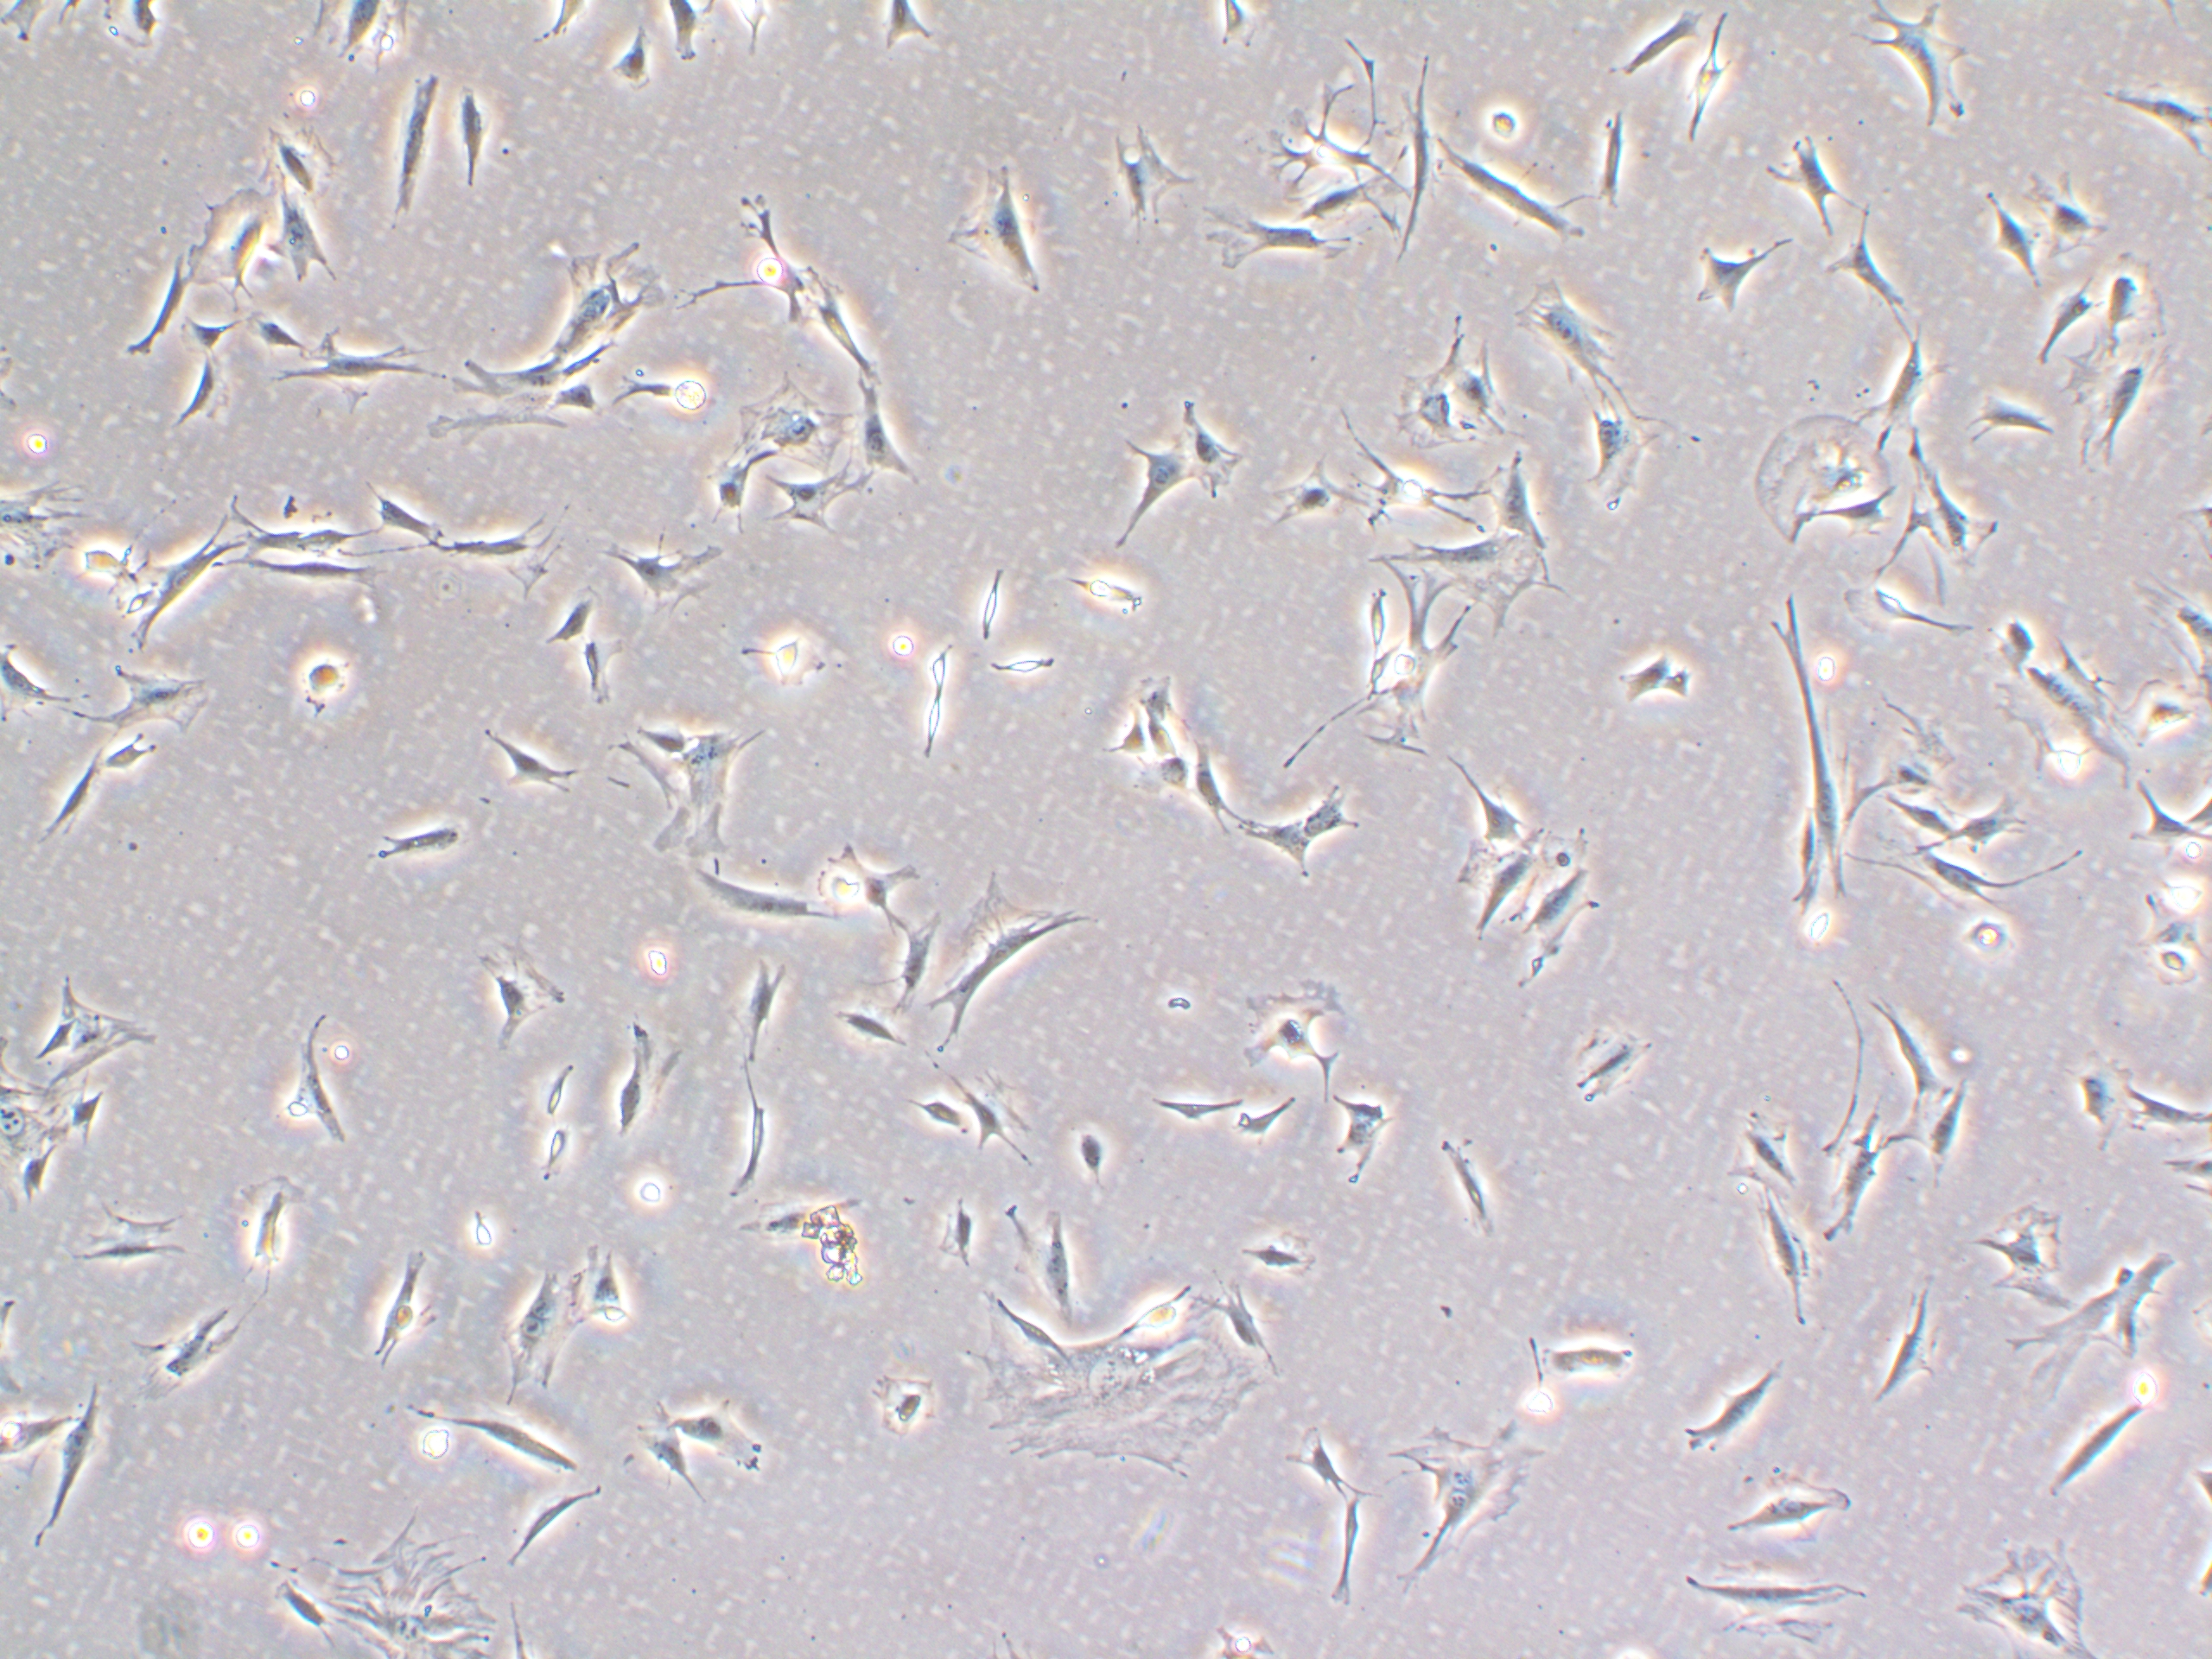Etc: (1679, 12, 1754, 148), (728, 1073, 772, 1213), (960, 547, 1014, 655), (1230, 1093, 1306, 1157), (970, 647, 1075, 692), (1050, 563, 1144, 612), (526, 1054, 587, 1129), (914, 699, 974, 775), (524, 1127, 578, 1194), (916, 620, 956, 706), (1350, 582, 1393, 647), (1345, 638, 1393, 694)
polygonal: (928, 863, 1103, 1065), (1771, 591, 1860, 913), (17, 1361, 120, 1591), (1843, 0, 1994, 145), (986, 1194, 1129, 1347), (1667, 1547, 1885, 1638), (1886, 436, 2010, 589), (16, 972, 185, 1082), (118, 1298, 263, 1424), (397, 1391, 589, 1483), (941, 153, 1052, 301), (594, 518, 733, 627), (273, 321, 432, 415), (1426, 1121, 1529, 1265), (456, 927, 580, 1046), (1548, 1006, 1663, 1133), (1683, 216, 1810, 329), (711, 945, 806, 1094), (125, 507, 228, 647), (1191, 1276, 1310, 1396), (2031, 1396, 2149, 1516), (2094, 61, 2212, 174), (1738, 1185, 1824, 1342), (752, 455, 881, 558), (1670, 1354, 1796, 1457), (601, 1009, 693, 1148), (1714, 1084, 1831, 1194), (1512, 868, 1604, 1006), (1918, 779, 2060, 868), (1190, 207, 1374, 275), (625, 1387, 714, 1525), (1869, 986, 1975, 1101), (280, 1006, 357, 1164), (683, 863, 845, 938), (1103, 115, 1190, 249), (1862, 1272, 1944, 1413), (817, 988, 944, 1079), (1757, 125, 1851, 247), (16, 741, 117, 854), (1818, 1105, 1886, 1272), (381, 54, 444, 230), (1824, 200, 1921, 312), (265, 176, 347, 308), (667, 1382, 772, 1485), (343, 812, 486, 885), (54, 1197, 193, 1270), (798, 268, 888, 380), (472, 721, 594, 803), (1864, 326, 1947, 444), (1219, 807, 1332, 894), (1458, 828, 1540, 948), (430, 509, 554, 587), (960, 1068, 1054, 1171), (838, 824, 923, 936), (881, 894, 963, 1009), (444, 71, 510, 213), (230, 554, 401, 608), (2024, 270, 2106, 380), (228, 495, 380, 554), (1165, 390, 1247, 497), (1252, 455, 1371, 528), (1320, 1493, 1386, 1624), (1109, 444, 1188, 549), (1918, 845, 2041, 911), (139, 352, 237, 436), (1979, 179, 2047, 296), (1325, 1091, 1397, 1197), (117, 258, 190, 361), (2114, 772, 2212, 849), (1921, 1072, 1979, 1201), (347, 474, 453, 544), (848, 390, 927, 484), (1958, 382, 2067, 446), (2130, 1068, 2212, 1152), (1284, 1420, 1371, 1499), (599, 23, 672, 115), (1878, 782, 1963, 856), (695, 448, 768, 533), (1231, 1218, 1332, 1277), (885, 1082, 975, 1147), (1141, 1084, 1242, 1140), (1054, 1112, 1113, 1201), (1665, 657, 1728, 737), (165, 308, 249, 359), (1087, 697, 1151, 760), (240, 300, 298, 354), (547, 584, 596, 647)
small-round: (1444, 73, 1548, 173), (279, 638, 378, 739), (733, 620, 831, 699), (608, 1150, 685, 1232), (1952, 908, 2027, 979), (54, 537, 136, 596), (2128, 943, 2203, 1002), (451, 1201, 509, 1267), (634, 925, 683, 1002), (110, 586, 167, 633)
spread: (995, 1295, 1280, 1486), (1395, 1412, 1557, 1601), (327, 1528, 519, 1659), (1369, 525, 1585, 636), (615, 713, 742, 882), (1743, 415, 1897, 552), (535, 239, 686, 371), (2066, 340, 2191, 493), (1946, 1530, 2092, 1659), (1724, 1460, 1898, 1553), (726, 375, 873, 481), (176, 174, 289, 300), (73, 664, 233, 746), (1576, 389, 1681, 511), (2076, 234, 2181, 347), (2027, 164, 2142, 267), (1501, 286, 1618, 387), (1456, 446, 1554, 556), (1428, 321, 1521, 429), (1385, 362, 1472, 467), (1972, 1195, 2069, 1281)
